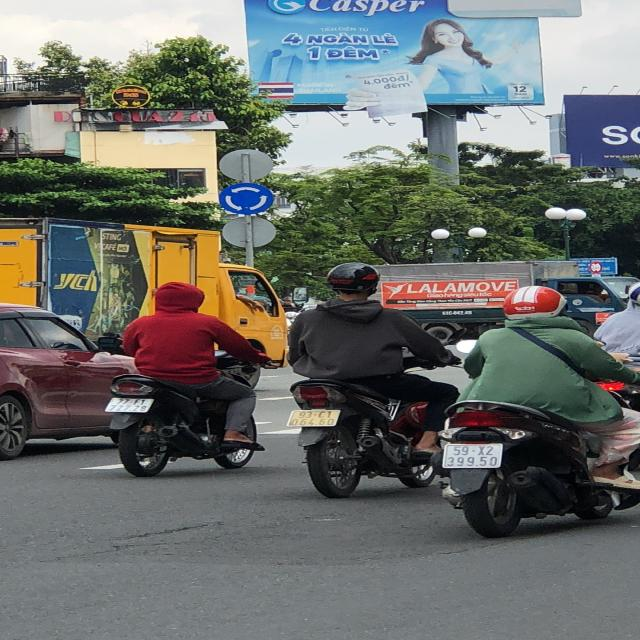Bien bao noi giao nhau chay theo vong xuyen: (214, 180, 278, 217)
